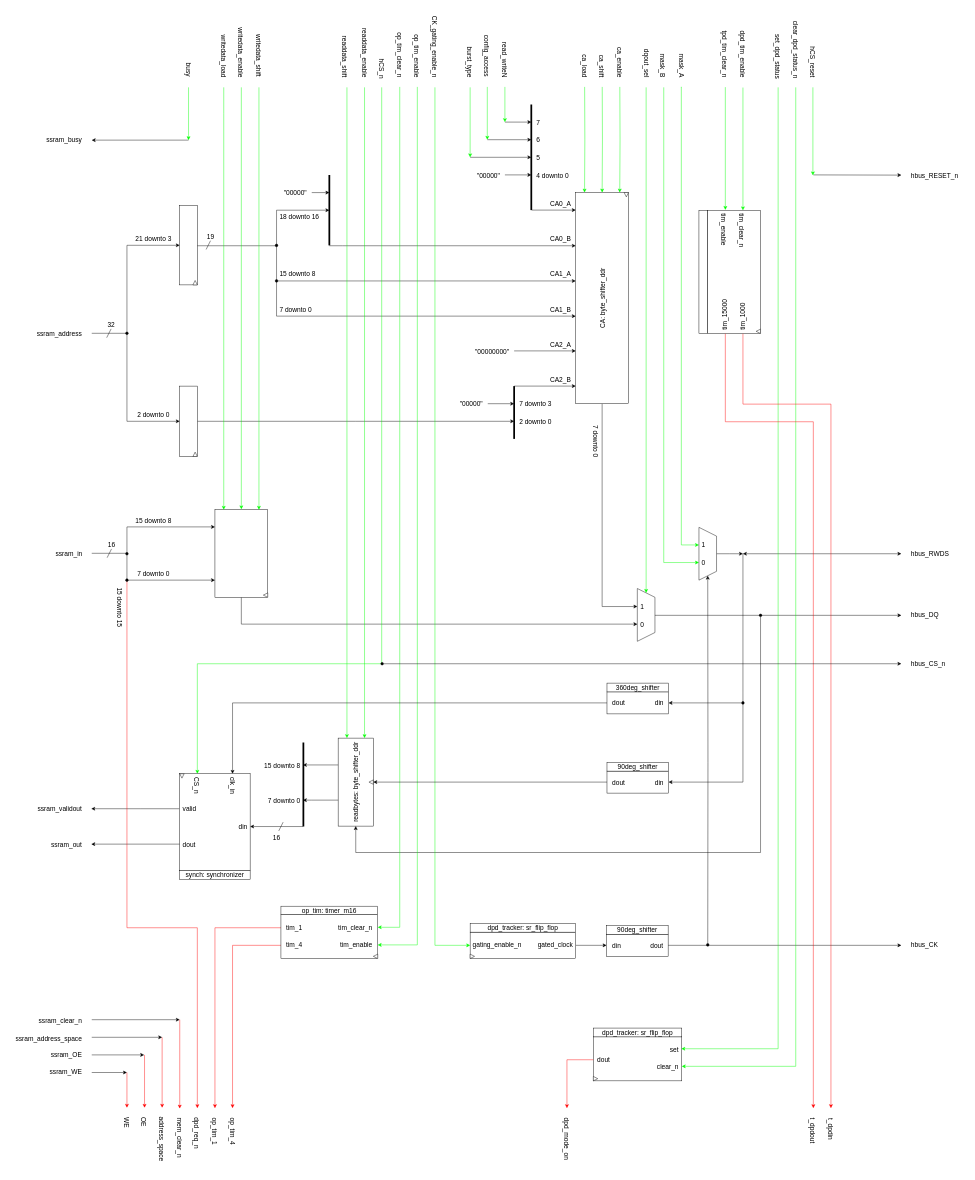
This 975x1180 diagram has some shape labels left out. The box of each missing label's shape, as (x1, y1, x2, y2) in pixels:
lowCol_addr: register: (179, 386, 197, 456)
row_upCol_addr: register: (179, 205, 197, 285)
tpd_tim: timer_14bit: (698, 210, 708, 334)
writedata: byte_shifter_ddr: (214, 509, 268, 597)
